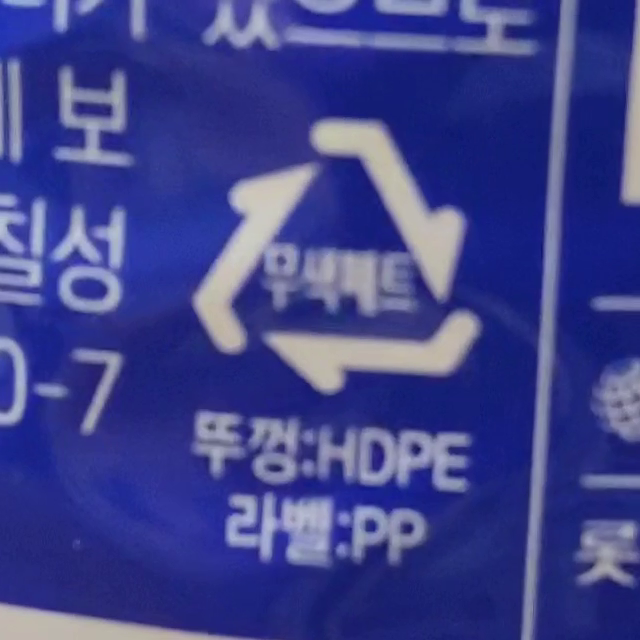ColorlessPet: (191, 119, 477, 394)
